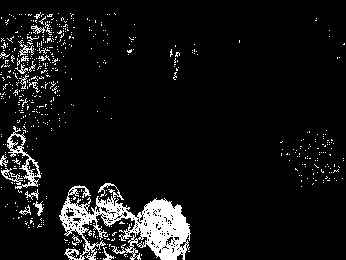person: (1, 133, 45, 227), (93, 182, 139, 258), (61, 184, 97, 260), (169, 44, 181, 81)
